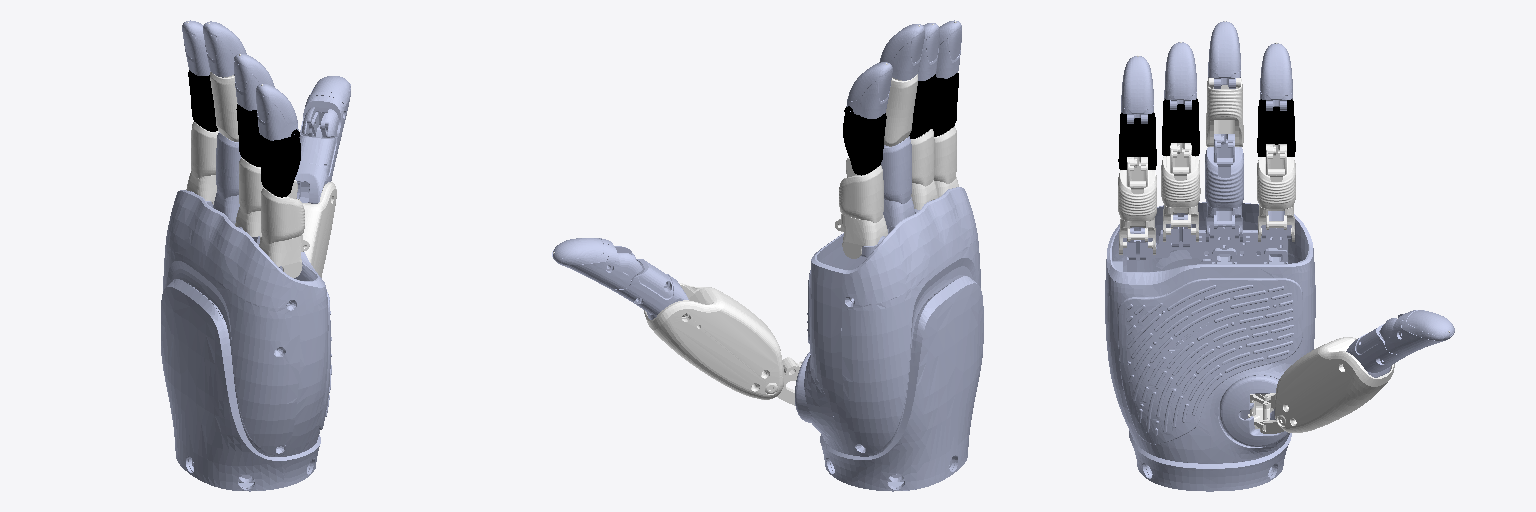
--- Render facts (derived) ---
3 views of the same robot in one strip: view 1: azimuth 30°, elevation 25°; view 2: azimuth 150°, elevation 25°; view 3: azimuth 270°, elevation 25° (orthographic).
Robot: omniprohand — 25 links, 24 joints (19 revolute, 5 fixed); root link hand_base_link; default pose: all joints at 0.
Visible links, largest first — view 1: hand_base_link, pinky_proximal, thumb_distal, thumb_proximal, pinky_middle, thumb_metacarpals, index_proximal, middle_proximal, pinky_distal, ring_proximal, middle_distal, middle_middle (+4 smaller); view 2: hand_base_link, thumb_metacarpals, index_proximal, thumb_distal, middle_proximal, index_middle, thumb_proximal, index_distal, middle_middle, middle_distal, ring_proximal, pinky_proximal (+5 smaller); view 3: hand_base_link, thumb_metacarpals, middle_proximal, ring_proximal, pinky_proximal, index_proximal, thumb_distal, middle_middle, middle_distal, pinky_distal, index_distal, ring_distal (+5 smaller).
Boxes of the visible links, x1,y1,x2,y2 form: hand_base_link: (161,190,331,491); pinky_proximal: (259,180,309,277); thumb_distal: (300,76,350,142); thumb_proximal: (295,127,339,203); pinky_middle: (259,129,300,197); thumb_metacarpals: (303,182,336,277); index_proximal: (186,122,218,204); middle_proximal: (213,132,242,228); pinky_distal: (256,83,298,140); ring_proximal: (235,157,262,239); middle_distal: (203,21,246,77); middle_middle: (210,72,238,141); hand_base_link: (795,187,983,491); thumb_metacarpals: (644,283,783,399); index_proximal: (835,158,887,258); thumb_distal: (552,238,642,289); middle_proximal: (881,136,914,233); index_middle: (843,106,886,175); thumb_proximal: (612,259,688,319); index_distal: (846,62,892,118); middle_middle: (884,74,917,146); middle_distal: (879,24,924,80); ring_proximal: (911,129,937,209); pinky_proximal: (931,126,958,200); hand_base_link: (1105,202,1315,491); thumb_metacarpals: (1275,337,1394,432); middle_proximal: (1205,134,1243,241); ring_proximal: (1161,143,1200,241); pinky_proximal: (1118,157,1156,254); index_proximal: (1257,144,1295,241); thumb_distal: (1380,310,1454,355); middle_middle: (1206,78,1243,146); middle_distal: (1208,21,1240,88); pinky_distal: (1121,56,1153,123); index_distal: (1260,43,1292,110); ring_distal: (1164,42,1196,109).
Bounding box of the posed robot: 0.1453 × 0.1624 × 0.2232 m (x, y, z).
Meshes: 25 distinct files referenced, 25 mesh visuals loaded (25 binary STL).

URDF robot description (omniprohand):
<?xml version="1.0" encoding="utf-8"?>
<!-- This URDF was automatically created by SolidWorks to URDF Exporter! Originally created by Stephen Brawner ([email redacted]) 
     Commit Version: 1.6.0-1-g15f4949  Build Version: 1.6.7594.29634
     For more information, please see http://wiki.ros.org/sw_urdf_exporter -->
<robot
  name="omniprohand">
  <link
    name="hand_base_link">
    <inertial>
      <origin
        xyz="-0.00161159551039664 -5.35320731301112E-05 0.0560978412942799"
        rpy="0 0 0" />
      <mass
        value="0.114811257443678" />
      <inertia
        ixx="0.000157668014286336"
        ixy="1.23279816628469E-07"
        ixz="3.41927928857369E-06"
        iyy="8.5350303174068E-05"
        iyz="-3.29579297268573E-06"
        izz="8.65455243809675E-05" />
    </inertial>
    <visual>
      <origin
        xyz="0 0 0"
        rpy="0 0 0" />
      <geometry>
        <mesh
          filename="meshes/hand_base_link.STL" />
      </geometry>
      <material
        name="">
        <color
          rgba="0.792156862745098 0.819607843137255 0.933333333333333 1" />
      </material>
    </visual>
    <collision>
      <origin
        xyz="0 0 0"
        rpy="0 0 0" />
      <geometry>
        <mesh
          filename="meshes/hand_base_link.STL" />
      </geometry>
    </collision>
  </link>
  <link
    name="thumb_metacarpals_base1">
    <inertial>
      <origin
        xyz="0.0128313930736693 -0.000678732032779711 -6.35818794832849E-05"
        rpy="0 0 0" />
      <mass
        value="0.00393646374828629" />
      <inertia
        ixx="5.66342021103653E-07"
        ixy="2.99828694401975E-08"
        ixz="-8.5308152999029E-10"
        iyy="2.92953553344946E-07"
        iyz="1.9125859446091E-08"
        izz="6.19998879375208E-07" />
    </inertial>
    <visual>
      <origin
        xyz="0 0 0"
        rpy="0 0 0" />
      <geometry>
        <mesh
          filename="meshes/thumb_metacarpals_base1.STL" />
      </geometry>
      <material
        name="">
        <color
          rgba="1 1 1 1" />
      </material>
    </visual>
    <collision>
      <origin
        xyz="0 0 0"
        rpy="0 0 0" />
      <geometry>
        <mesh
          filename="meshes/thumb_metacarpals_base1.STL" />
      </geometry>
    </collision>
  </link>
  <joint
    name="thumb_cmc_roll"
    type="revolute">
    <origin
      xyz="-0.0075211 0.022278 0.04025"
      rpy="0 0 0" />
    <parent
      link="hand_base_link" />
    <child
      link="thumb_metacarpals_base1" />
    <axis
      xyz="1 0 0" />
    <limit
      lower="-0.2489"
      upper="0.6489"
      effort="100"
      velocity="1" />
  </joint>
  <link
    name="thumb_metacarpals_base2">
    <inertial>
      <origin
        xyz="0.00581591430824001 0.00635157624424623 0.0030181797779424"
        rpy="0 0 0" />
      <mass
        value="0.00171679583795965" />
      <inertia
        ixx="1.18471956476211E-07"
        ixy="-4.21491727713665E-08"
        ixz="-1.05144206441241E-08"
        iyy="1.14929858642022E-07"
        iyz="-1.74178188232578E-08"
        izz="9.67476477234771E-08" />
    </inertial>
    <visual>
      <origin
        xyz="0 0 0"
        rpy="0 0 0" />
      <geometry>
        <mesh
          filename="meshes/thumb_metacarpals_base2.STL" />
      </geometry>
      <material
        name="">
        <color
          rgba="1 1 1 1" />
      </material>
    </visual>
    <collision>
      <origin
        xyz="0 0 0"
        rpy="0 0 0" />
      <geometry>
        <mesh
          filename="meshes/thumb_metacarpals_base2.STL" />
      </geometry>
    </collision>
  </link>
  <joint
    name="thumb_cmc_yaw"
    type="revolute">
    <origin
      xyz="0.0350706488516897 0.00330139200274943 0"
      rpy="0 0 0" />
    <parent
      link="thumb_metacarpals_base1" />
    <child
      link="thumb_metacarpals_base2" />
    <axis
      xyz="0 0 -1" />
    <limit
      lower="0"
      upper="1.3868"
      effort="100"
      velocity="1" />
  </joint>
  <link
    name="thumb_metacarpals">
    <inertial>
      <origin
        xyz="0.00385872987613253 0.000181218415040837 0.0262735842223975"
        rpy="0 0 0" />
      <mass
        value="0.0170904824194818" />
      <inertia
        ixx="6.63118248451921E-06"
        ixy="-8.89148786987225E-09"
        ixz="-3.40233793822337E-07"
        iyy="8.03870891218123E-06"
        iyz="1.37099535870765E-08"
        izz="1.83070429843817E-06" />
    </inertial>
    <visual>
      <origin
        xyz="0 0 0"
        rpy="0 0 0" />
      <geometry>
        <mesh
          filename="meshes/thumb_metacarpals.STL" />
      </geometry>
      <material
        name="">
        <color
          rgba="1 1 1 1" />
      </material>
    </visual>
    <collision>
      <origin
        xyz="0 0 0"
        rpy="0 0 0" />
      <geometry>
        <mesh
          filename="meshes/thumb_metacarpals.STL" />
      </geometry>
    </collision>
  </link>
  <joint
    name="thumb_cmc_pitch"
    type="revolute">
    <origin
      xyz="0.0161297170352622 0.0163048601861332 0.00686106204760886"
      rpy="0 -0.925290064543775 -2.35079106633742" />
    <parent
      link="thumb_metacarpals_base2" />
    <child
      link="thumb_metacarpals" />
    <axis
      xyz="0 1 0" />
    <limit
      lower="0"
      upper="0.8268"
      effort="100"
      velocity="1" />
  </joint>
  <link
    name="thumb_proximal">
    <inertial>
      <origin
        xyz="-0.00245377652568594 0.00186599902568424 0.0134436674550769"
        rpy="0 0 0" />
      <mass
        value="0.00522967724458737" />
      <inertia
        ixx="4.48792018896274E-07"
        ixy="-9.70789943838585E-10"
        ixz="-7.98090430081374E-08"
        iyy="6.21158736091837E-07"
        iyz="-3.64664957781825E-09"
        izz="2.2512440353929E-07" />
    </inertial>
    <visual>
      <origin
        xyz="0 0 0"
        rpy="0 0 0" />
      <geometry>
        <mesh
          filename="meshes/thumb_proximal.STL" />
      </geometry>
      <material
        name="">
        <color
          rgba="0.792156862745098 0.819607843137255 0.933333333333333 1" />
      </material>
    </visual>
    <collision>
      <origin
        xyz="0 0 0"
        rpy="0 0 0" />
      <geometry>
        <mesh
          filename="meshes/thumb_proximal.STL" />
      </geometry>
    </collision>
  </link>
  <joint
    name="thumb_mcp"
    type="revolute">
    <origin
      xyz="0.00816453404663862 -0.00144999989303646 0.0556339310817644"
      rpy="0 0 0" />
    <parent
      link="thumb_metacarpals" />
    <child
      link="thumb_proximal" />
    <axis
      xyz="0 1 0" />
    <!-- <limit
      lower="0"
      upper="1.2908"
      effort="100"
      velocity="1" /> -->
    <limit
      lower="0"
      upper="0.2908"
      effort="100"
      velocity="1" />
  </joint>
  <link
    name="thumb_distal">
    <inertial>
      <origin
        xyz="0.000428123853169746 2.07014406468898E-05 0.00928509405558531"
        rpy="0 0 0" />
      <mass
        value="0.00521800975168049" />
      <inertia
        ixx="3.59710358459503E-07"
        ixy="-7.03000203960055E-11"
        ixz="7.69465079824501E-08"
        iyy="3.45473494359169E-07"
        iyz="3.06962101858862E-10"
        izz="2.64028535580618E-07" />
    </inertial>
    <visual>
      <origin
        xyz="0 0 0"
        rpy="0 0 0" />
      <geometry>
        <mesh
          filename="meshes/thumb_distal.STL" />
      </geometry>
      <material
        name="">
        <color
          rgba="0.796078431372549 0.823529411764706 0.937254901960784 1" />
      </material>
    </visual>
    <collision>
      <origin
        xyz="0 0 0"
        rpy="0 0 0" />
      <geometry>
        <mesh
          filename="meshes/thumb_distal.STL" />
      </geometry>
    </collision>
  </link>
  <joint
    name="thumb_ip"
    type="revolute">
    <origin
      xyz="-0.00154750718363847 0.00149999983118392 0.0345280593371561"
      rpy="0 0 0" />
    <parent
      link="thumb_proximal" />
    <child
      link="thumb_distal" />
    <axis
      xyz="0 1 0" />
    <!-- <limit
      lower="0"
      upper="1.3781"
      effort="100"
      velocity="1" /> -->
    <limit
      lower="0"
      upper="0.3781"
      effort="100"
      velocity="1" />
  </joint>
  <link
    name="thumb_Virtual_Point">
    <inertial>
      <origin
        xyz="0.000233035989326169 5.00064540250775E-05 4.67970036186205E-05"
        rpy="0 0 0" />
      <mass
        value="5.23598775598299E-07" />
      <inertia
        ixx="5.23598775598299E-14"
        ixy="-6.44905165041911E-31"
        ixz="3.15544362088405E-30"
        iyy="5.23598775598299E-14"
        iyz="-2.42380465218649E-30"
        izz="5.23598775598299E-14" />
    </inertial>
    <visual>
      <origin
        xyz="0 0 0"
        rpy="0 0 0" />
      <geometry>
        <mesh
          filename="meshes/thumb_Virtual_Point.STL" />
      </geometry>
      <material
        name="">
        <color
          rgba="1 1 1 1" />
      </material>
    </visual>
    <collision>
      <origin
        xyz="0 0 0"
        rpy="0 0 0" />
      <geometry>
        <mesh
          filename="meshes/thumb_Virtual_Point.STL" />
      </geometry>
    </collision>
  </link>
  <joint
    name="thumb_Virtual_Point-none"
    type="fixed">
    <origin
      xyz="-0.00661702686299999 -4.99999381474688E-05 0.0315676558844293"
      rpy="0 0 0" />
    <parent
      link="thumb_distal" />
    <child
      link="thumb_Virtual_Point" />
    <axis
      xyz="0 0 0" />
  </joint>
  <link
    name="index_metacarpals">
    <inertial>
      <origin
        xyz="0.00148754096391645 -5.49503463911916E-09 0.0020193309982513"
        rpy="0 0 0" />
      <mass
        value="0.00107972483821526" />
      <inertia
        ixx="3.55597226363628E-08"
        ixy="-9.48374824931894E-16"
        ixz="-2.89707226372672E-09"
        iyy="2.11264180987165E-08"
        iyz="-1.72178782545344E-14"
        izz="3.62864110573929E-08" />
    </inertial>
    <visual>
      <origin
        xyz="0 0 0"
        rpy="0 0 0" />
      <geometry>
        <mesh
          filename="meshes/index_metacarpals.STL" />
      </geometry>
      <material
        name="">
        <color
          rgba="0.792156862745098 0.819607843137255 0.933333333333333 1" />
      </material>
    </visual>
    <collision>
      <origin
        xyz="0 0 0"
        rpy="0 0 0" />
      <geometry>
        <mesh
          filename="meshes/index_metacarpals.STL" />
      </geometry>
    </collision>
  </link>
  <joint
    name="index_mcp_roll"
    type="revolute">
    <origin
      xyz="-0.00719999999308767 0.030778354272632 0.119355702147758"
      rpy="0 0 0" />
    <parent
      link="hand_base_link" />
    <child
      link="index_metacarpals" />
    <axis
      xyz="-1 0 0" />
    <limit
      lower="-0.2616"
      upper="0.2616"
      effort="100"
      velocity="1" />
  </joint>
  <link
    name="index_proximal">
    <inertial>
      <origin
        xyz="-0.0011507020809311 -2.08334184405266E-05 0.0212647300382613"
        rpy="0 0 0" />
      <mass
        value="0.0047795679529425" />
      <inertia
        ixx="5.44832577804325E-07"
        ixy="-9.05372082062046E-11"
        ixz="1.65895588180974E-08"
        iyy="5.41640689587984E-07"
        iyz="-2.49910298343712E-10"
        izz="1.75594690124638E-07" />
    </inertial>
    <visual>
      <origin
        xyz="0 0 0"
        rpy="0 0 0" />
      <geometry>
        <mesh
          filename="meshes/index_proximal.STL" />
      </geometry>
      <material
        name="">
        <color
          rgba="1 1 1 1" />
      </material>
    </visual>
    <collision>
      <origin
        xyz="0 0 0"
        rpy="0 0 0" />
      <geometry>
        <mesh
          filename="meshes/index_proximal.STL" />
      </geometry>
    </collision>
  </link>
  <joint
    name="index_mcp_pitch"
    type="revolute">
    <origin
      xyz="0.00736980261911774 0 0"
      rpy="0 0 0" />
    <parent
      link="index_metacarpals" />
    <child
      link="index_proximal" />
    <axis
      xyz="0 1 0" />
    <limit
      lower="0"
      upper="1.3519"
      effort="100"
      velocity="1" />
  </joint>
  <link
    name="index_middle">
    <inertial>
      <origin
        xyz="0.000582798950647259 -1.66623930000845E-05 0.0134419047168478"
        rpy="0 0 0" />
      <mass
        value="0.00270775195657711" />
      <inertia
        ixx="2.25567812011315E-07"
        ixy="4.76559542406049E-12"
        ixz="5.19477924230877E-09"
        iyy="1.61875481956388E-07"
        iyz="-8.958112771538E-12"
        izz="1.1790038033522E-07" />
    </inertial>
    <visual>
      <origin
        xyz="0 0 0"
        rpy="0 0 0" />
      <geometry>
        <mesh
          filename="meshes/index_middle.STL" />
      </geometry>
      <material
        name="">
        <color
          rgba="0 0 0 1" />
      </material>
    </visual>
    <collision>
      <origin
        xyz="0 0 0"
        rpy="0 0 0" />
      <geometry>
        <mesh
          filename="meshes/index_middle.STL" />
      </geometry>
    </collision>
  </link>
  <joint
    name="index_pip"
    type="revolute">
    <origin
      xyz="-0.00305282449335901 0 0.0399071116817979"
      rpy="0 0 0" />
    <parent
      link="index_proximal" />
    <child
      link="index_middle" />
    <axis
      xyz="0 1 0" />
    <limit
      lower="0"
      upper="1.52"
      effort="100"
      velocity="1" />
  </joint>
  <link
    name="index_distal">
    <inertial>
      <origin
        xyz="-0.00721640324456499 -3.10526118675776E-05 0.00510323974876059"
        rpy="0 0 0" />
      <mass
        value="0.00258259704107596" />
      <inertia
        ixx="1.30227806624487E-07"
        ixy="1.19687371568575E-10"
        ixz="4.12783102703161E-08"
        iyy="1.36472647538679E-07"
        iyz="-3.14466372715903E-10"
        izz="1.01017185875891E-07" />
    </inertial>
    <visual>
      <origin
        xyz="0 0 0"
        rpy="0 0 0" />
      <geometry>
        <mesh
          filename="meshes/index_distal.STL" />
      </geometry>
      <material
        name="">
        <color
          rgba="0.792156862745098 0.819607843137255 0.933333333333333 1" />
      </material>
    </visual>
    <collision>
      <origin
        xyz="0 0 0"
        rpy="0 0 0" />
      <geometry>
        <mesh
          filename="meshes/index_distal.STL" />
      </geometry>
    </collision>
  </link>
  <joint
    name="index_dip"
    type="revolute">
    <origin
      xyz="0.00530686089658646 0 0.0265922869892696"
      rpy="0 0 0" />
    <parent
      link="index_middle" />
    <child
      link="index_distal" />
    <axis
      xyz="0 1 0" />
    <limit
      lower="0"
      upper="1.369"
      effort="100"
      velocity="1" />
  </joint>
  <link
    name="index_Virtual_Point">
    <inertial>
      <origin
        xyz="2.59494682686157E-12 1.08447278934776E-12 -2.77555756156289E-17"
        rpy="0 0 0" />
      <mass
        value="5.23598775598299E-07" />
      <inertia
        ixx="5.23598775598299E-14"
        ixy="1.25598008635388E-40"
        ixz="9.28286640364503E-41"
        iyy="5.23598775598299E-14"
        iyz="1.09865815136825E-30"
        izz="5.23598775598299E-14" />
    </inertial>
    <visual>
      <origin
        xyz="0 0 0"
        rpy="0 0 0" />
      <geometry>
        <mesh
          filename="meshes/index_Virtual_Point.STL" />
      </geometry>
      <material
        name="">
        <color
          rgba="1 1 1 1" />
      </material>
    </visual>
    <collision>
      <origin
        xyz="0 0 0"
        rpy="0 0 0" />
      <geometry>
        <mesh
          filename="meshes/index_Virtual_Point.STL" />
      </geometry>
    </collision>
  </link>
  <joint
    name="index_Virtual_Point-none"
    type="fixed">
    <origin
      xyz="-0.0152816370939128 0 0.0240371666710466"
      rpy="0 0 0" />
    <parent
      link="index_distal" />
    <child
      link="index_Virtual_Point" />
    <axis
      xyz="0 0 0" />
  </joint>
  <link
    name="middle_metacarpals">
    <inertial>
      <origin
        xyz="0.00148754096057072 3.28886513297454E-06 0.00201932832117667"
        rpy="0 0 0" />
      <mass
        value="0.00107972484789827" />
      <inertia
        ixx="3.55597227804492E-08"
        ixy="-4.72744773072463E-12"
        ixz="-2.89706838785042E-09"
        iyy="2.11264584194102E-08"
        iyz="2.47147540874508E-11"
        izz="3.62863711473445E-08" />
    </inertial>
    <visual>
      <origin
        xyz="0 0 0"
        rpy="0 0 0" />
      <geometry>
        <mesh
          filename="meshes/middle_metacarpals.STL" />
      </geometry>
      <material
        name="">
        <color
          rgba="0.792156862745098 0.819607843137255 0.933333333333333 1" />
      </material>
    </visual>
    <collision>
      <origin
        xyz="0 0 0"
        rpy="0 0 0" />
      <geometry>
        <mesh
          filename="meshes/middle_metacarpals.STL" />
      </geometry>
    </collision>
  </link>
  <joint
    name="middle_mcp_roll"
    type="revolute">
    <origin
      xyz="-0.00720002856790489 0.00666067883725946 0.119355672566023"
      rpy="0 0 0" />
    <parent
      link="hand_base_link" />
    <child
      link="middle_metacarpals" />
    <axis
      xyz="-1 0 0" />
    <limit
      lower="-0.26"
      upper="0.26"
      effort="100"
      velocity="1" />
  </joint>
  <link
    name="middle_proximal">
    <inertial>
      <origin
        xyz="-0.00165985032192234 6.30950482594017E-05 0.0236220231228174"
        rpy="0 0 0" />
      <mass
        value="0.0055122415444485" />
      <inertia
        ixx="7.79066281858944E-07"
        ixy="4.80058757068528E-11"
        ixz="3.22743653411331E-08"
        iyy="7.60600012773068E-07"
        iyz="-1.49750195774983E-09"
        izz="2.05882994190045E-07" />
    </inertial>
    <visual>
      <origin
        xyz="0 0 0"
        rpy="0 0 0" />
      <geometry>
        <mesh
          filename="meshes/middle_proximal.STL" />
      </geometry>
      <material
        name="">
        <color
          rgba="0.792156862745098 0.819607843137255 0.933333333333333 1" />
      </material>
    </visual>
    <collision>
      <origin
        xyz="0 0 0"
        rpy="0 0 0" />
      <geometry>
        <mesh
          filename="meshes/middle_proximal.STL" />
      </geometry>
    </collision>
  </link>
  <joint
    name="middle_mcp_pitch"
    type="revolute">
    <origin
      xyz="0.00736980261904721 0 0"
      rpy="0 0 0" />
    <parent
      link="middle_metacarpals" />
    <child
      link="middle_proximal" />
    <axis
      xyz="0 0.999998669223613 -0.00163142606439766" />
    <limit
      lower="0"
      upper="1.35"
      effort="100"
      velocity="1" />
  </joint>
  <link
    name="middle_middle">
    <inertial>
      <origin
        xyz="-0.000230368247225323 5.52667321999743E-05 0.01619749717231"
        rpy="0 0 0" />
      <mass
        value="0.00314204808883818" />
      <inertia
        ixx="3.20092678111392E-07"
        ixy="-1.08641100687577E-11"
        ixz="1.53074298945201E-08"
        iyy="2.47015765909473E-07"
        iyz="-1.53970978537133E-10"
        izz="1.35843361683385E-07" />
    </inertial>
    <visual>
      <origin
        xyz="0 0 0"
        rpy="0 0 0" />
      <geometry>
        <mesh
          filename="meshes/middle_middle.STL" />
      </geometry>
      <material
        name="">
        <color
          rgba="1 1 1 1" />
      </material>
    </visual>
    <collision>
      <origin
        xyz="0 0 0"
        rpy="0 0 0" />
      <geometry>
        <mesh
          filename="meshes/middle_middle.STL" />
      </geometry>
    </collision>
  </link>
  <joint
    name="middle_pip"
    type="revolute">
    <origin
      xyz="-0.004144 7.3133E-05 0.044828"
      rpy="0 0 0" />
    <parent
      link="middle_proximal" />
    <child
      link="middle_middle" />
    <axis
      xyz="0 1 -0.0016314" />
    <limit
      lower="0"
      upper="1.814"
      effort="100"
      velocity="1" />
  </joint>
  <link
    name="middle_distal">
    <inertial>
      <origin
        xyz="-0.00724758468028898 -2.27990144281735E-05 0.00505893372906674"
        rpy="0 0 0" />
      <mass
        value="0.00258260294313138" />
      <inertia
        ixx="1.29720848656837E-07"
        ixy="1.8924389897908E-10"
        ixz="4.14544297269987E-08"
        iyy="1.36472188916914E-07"
        iyz="-3.70737066885826E-10"
        izz="1.01526072268206E-07" />
    </inertial>
    <visual>
      <origin
        xyz="0 0 0"
        rpy="0 0 0" />
      <geometry>
        <mesh
          filename="meshes/middle_distal.STL" />
      </geometry>
      <material
        name="">
        <color
          rgba="0.792156862745098 0.819607843137255 0.933333333333333 1" />
      </material>
    </visual>
    <collision>
      <origin
        xyz="0 0 0"
        rpy="0 0 0" />
      <geometry>
        <mesh
          filename="meshes/middle_distal.STL" />
      </geometry>
    </collision>
  </link>
  <joint
    name="middle_dip"
    type="revolute">
    <origin
      xyz="0.00362953932909984 5.15731342090597E-05 0.031612259069028"
      rpy="0 0 0" />
    <parent
      link="middle_middle" />
    <child
      link="middle_distal" />
    <axis
      xyz="0 0.99999866922354 -0.0016314261089444" />
    <limit
      lower="0"
      upper="1.256"
      effort="100"
      velocity="1" />
  </joint>
  <link
    name="middle_Virtual_Point">
    <inertial>
      <origin
        xyz="4.81580053612873E-13 1.33037331151442E-12 -6.74460487459783E-15"
        rpy="0 0 0" />
      <mass
        value="5.23598775598299E-07" />
      <inertia
        ixx="5.23598775598299E-14"
        ixy="-4.90325426925644E-42"
        ixz="1.17662710661929E-40"
        iyy="5.23598775598299E-14"
        iyz="1.29845462914076E-30"
        izz="5.23598775598299E-14" />
    </inertial>
    <visual>
      <origin
        xyz="0 0 0"
        rpy="0 0 0" />
      <geometry>
        <mesh
          filename="meshes/middle_Virtual_Point.STL" />
      </geometry>
      <material
        name="">
        <color
          rgba="1 1 1 1" />
      </material>
    </visual>
    <collision>
      <origin
        xyz="0 0 0"
        rpy="0 0 0" />
      <geometry>
        <mesh
          filename="meshes/middle_Virtual_Point.STL" />
      </geometry>
    </collision>
  </link>
  <joint
    name="middle_Virtual_Point-none"
    type="fixed">
    <origin
      xyz="-0.0154287963750709 3.90611932357243E-05 0.0239429432292471"
      rpy="0 0 0" />
    <parent
      link="middle_distal" />
    <child
      link="middle_Virtual_Point" />
    <axis
      xyz="0 0 0" />
  </joint>
  <link
    name="ring_proximal">
    <inertial>
      <origin
        xyz="-0.00161802170047008 -2.08220096852268E-05 0.0212342177709951"
        rpy="0 0 0" />
      <mass
        value="0.0047795328266326" />
      <inertia
        ixx="5.43923252152409E-07"
        ixy="-8.48896522637981E-11"
        ixz="2.4689478865027E-08"
        iyy="5.41640127982143E-07"
        iyz="-2.5218290048469E-10"
        izz="1.76501748993068E-07" />
    </inertial>
    <visual>
      <origin
        xyz="0 0 0"
        rpy="0 0 0" />
      <geometry>
        <mesh
          filename="meshes/ring_proximal.STL" />
      </geometry>
      <material
        name="">
        <color
          rgba="1 1 1 1" />
      </material>
    </visual>
    <collision>
      <origin
        xyz="0 0 0"
        rpy="0 0 0" />
      <geometry>
        <mesh
          filename="meshes/ring_proximal.STL" />
      </geometry>
    </collision>
  </link>
  <joint
    name="ring_mcp_pitch"
    type="revolute">
    <origin
      xyz="0.0001598 -0.013573 0.11972"
      rpy="0 0 0" />
    <parent
      link="hand_base_link" />
    <child
      link="ring_proximal" />
    <axis
      xyz="0 1 0" />
    <limit
      lower="0"
      upper="1.55"
      effort="100"
      velocity="1" />
  </joint>
  <link
    name="ring_middle">
    <inertial>
      <origin
        xyz="0.000940340714750308 -1.66667751162405E-05 0.0134216382614548"
        rpy="0 0 0" />
      <mass
        value="0.0027077533496335" />
      <inertia
        ixx="2.25767846748625E-07"
        ixy="4.61360531413437E-12"
        ixz="2.32301202429608E-09"
        iyy="1.61875511170868E-07"
        iyz="-9.05860342855209E-12"
        izz="1.17700137222491E-07" />
    </inertial>
    <visual>
      <origin
        xyz="0 0 0"
        rpy="0 0 0" />
      <geometry>
        <mesh
          filename="meshes/ring_middle.STL" />
      </geometry>
      <material
        name="">
        <color
          rgba="0 0 0 1" />
      </material>
    </visual>
    <collision>
      <origin
        xyz="0 0 0"
        rpy="0 0 0" />
      <geometry>
        <mesh
          filename="meshes/ring_middle.STL" />
      </geometry>
    </collision>
  </link>
  <joint
    name="ring_pip"
    type="revolute">
    <origin
      xyz="-0.0039295 0 0.03983"
      rpy="0 0 0" />
    <parent
      link="ring_proximal" />
    <child
      link="ring_middle" />
    <axis
      xyz="0 1 0" />
    <limit
      lower="0"
      upper="1.439"
      effort="100"
      velocity="1" />
  </joint>
  <link
    name="ring_distal">
    <inertial>
      <origin
        xyz="-0.00679183129010172 -3.1051267307786E-05 0.00565592901618503"
        rpy="0 0 0" />
      <mass
        value="0.00258259127175773" />
      <inertia
        ixx="1.36530380213342E-07"
        ixy="9.44469863763946E-11"
        ixz="3.84707548646242E-08"
        iyy="1.36471612117152E-07"
        iyz="-3.22664356287902E-10"
        izz="9.47134934031493E-08" />
    </inertial>
    <visual>
      <origin
        xyz="0 0 0"
        rpy="0 0 0" />
      <geometry>
        <mesh
          filename="meshes/ring_distal.STL" />
      </geometry>
      <material
        name="">
        <color
          rgba="0.792156862745098 0.819607843137255 0.933333333333333 1" />
      </material>
    </visual>
    <collision>
      <origin
        xyz="0 0 0"
        rpy="0 0 0" />
      <geometry>
        <mesh
          filename="meshes/ring_distal.STL" />
      </geometry>
    </collision>
  </link>
  <joint
    name="ring_dip"
    type="revolute">
    <origin
      xyz="0.00601275714854613 0 0.0264415298059948"
      rpy="0 0 0" />
    <parent
      link="ring_middle" />
    <child
      link="ring_distal" />
    <axis
      xyz="0 1 0" />
    <limit
      lower="0"
      upper="1.3257"
      effort="100"
      velocity="1" />
  </joint>
  <link
    name="ring_Virtual_Point">
    <inertial>
      <origin
        xyz="-1.13526896217131E-12 9.35964847292858E-13 5.27355936696949E-16"
        rpy="0 0 0" />
      <mass
        value="5.23598775598299E-07" />
      <inertia
        ixx="5.23598775598299E-14"
        ixy="1.58205846501508E-40"
        ixz="1.56203013032883E-40"
        iyy="5.23598775598299E-14"
        iyz="1.85037170770859E-30"
        izz="5.23598775598299E-14" />
    </inertial>
    <visual>
      <origin
        xyz="0 0 0"
        rpy="0 0 0" />
      <geometry>
        <mesh
          filename="meshes/ring_Virtual_Point.STL" />
      </geometry>
      <material
        name="">
        <color
          rgba="1 1 1 1" />
      </material>
    </visual>
    <collision>
      <origin
        xyz="0 0 0"
        rpy="0 0 0" />
      <geometry>
        <mesh
          filename="meshes/ring_Virtual_Point.STL" />
      </geometry>
    </collision>
  </link>
  <joint
    name="ring_Virtual_Point-none"
    type="fixed">
    <origin
      xyz="-0.01334 0 0.025167"
      rpy="0 0 0" />
    <parent
      link="ring_distal" />
    <child
      link="ring_Virtual_Point" />
    <axis
      xyz="0 0 0" />
  </joint>
  <link
    name="pinky_proximal">
    <inertial>
      <origin
        xyz="-0.0016180221168521 -2.08215074695289E-05 0.0212342179851402"
        rpy="0 0 0" />
      <mass
        value="0.00477953323340541" />
      <inertia
        ixx="5.43923274544673E-07"
        ixy="-8.48863445397533E-11"
        ixz="2.46894910332365E-08"
        iyy="5.41640168354855E-07"
        iyz="-2.52187730642466E-10"
        izz="1.7650175778066E-07" />
    </inertial>
    <visual>
      <origin
        xyz="0 0 0"
        rpy="0 0 0" />
      <geometry>
        <mesh
          filename="meshes/pinky_proximal.STL" />
      </geometry>
      <material
        name="">
        <color
          rgba="1 1 1 1" />
      </material>
    </visual>
    <collision>
      <origin
        xyz="0 0 0"
        rpy="0 0 0" />
      <geometry>
        <mesh
          filename="meshes/pinky_proximal.STL" />
      </geometry>
    </collision>
  </link>
  <joint
    name="pinky_mcp_pitch"
    type="revolute">
    <origin
      xyz="0.000159802654372855 -0.0336303181952511 0.11271621059493"
      rpy="0 0 0" />
    <parent
      link="hand_base_link" />
    <child
      link="pinky_proximal" />
    <axis
      xyz="0 1 0" />
    <limit
      lower="0"
      upper="1.535"
      effort="100"
      velocity="1" />
  </joint>
  <link
    name="pinky_middle">
    <inertial>
      <origin
        xyz="0.000940340979638598 -1.66665156724755E-05 0.0134216381434371"
        rpy="0 0 0" />
      <mass
        value="0.00270775345292578" />
      <inertia
        ixx="2.25767855959524E-07"
        ixy="4.61316580602277E-12"
        ixz="2.32301150942084E-09"
        iyy="1.61875516933061E-07"
        iyz="-9.05509549786009E-12"
        izz="1.17700140839825E-07" />
    </inertial>
    <visual>
      <origin
        xyz="0 0 0"
        rpy="0 0 0" />
      <geometry>
        <mesh
          filename="meshes/pinky_middle.STL" />
      </geometry>
      <material
        name="">
        <color
          rgba="0 0 0 1" />
      </material>
    </visual>
    <collision>
      <origin
        xyz="0 0 0"
        rpy="0 0 0" />
      <geometry>
        <mesh
          filename="meshes/pinky_middle.STL" />
      </geometry>
    </collision>
  </link>
  <joint
    name="pinky_pip"
    type="revolute">
    <origin
      xyz="-0.00392950397727024 0 0.0398303439412377"
      rpy="0 0 0" />
    <parent
      link="pinky_proximal" />
    <child
      link="pinky_middle" />
    <axis
      xyz="0 1 0" />
    <limit
      lower="0"
      upper="1.413"
      effort="100"
      velocity="1" />
  </joint>
  <link
    name="pinky_distal">
    <inertial>
      <origin
        xyz="-0.00679190409450586 -3.10511081597076E-05 0.00565584201307923"
        rpy="0 0 0" />
      <mass
        value="0.00258259141809727" />
      <inertia
        ixx="1.36529403216541E-07"
        ixy="9.44507918542087E-11"
        ixz="3.84712982116646E-08"
        iyy="1.36471628325979E-07"
        iyz="-3.22662637208023E-10"
        izz="9.47144825482917E-08" />
    </inertial>
    <visual>
      <origin
        xyz="0 0 0"
        rpy="0 0 0" />
      <geometry>
        <mesh
          filename="meshes/pinky_distal.STL" />
      </geometry>
      <material
        name="">
        <color
          rgba="0.792156862745098 0.819607843137255 0.933333333333333 1" />
      </material>
    </visual>
    <collision>
      <origin
        xyz="0 0 0"
        rpy="0 0 0" />
      <geometry>
        <mesh
          filename="meshes/pinky_distal.STL" />
      </geometry>
    </collision>
  </link>
  <joint
    name="pinky_dip"
    type="revolute">
    <origin
      xyz="0.00601270306428537 0 0.0264416319816371"
      rpy="0 0 0" />
    <parent
      link="pinky_middle" />
    <child
      link="pinky_distal" />
    <axis
      xyz="0 1 0" />
    <limit
      lower="0"
      upper="1.325"
      effort="100"
      velocity="1" />
  </joint>
  <link
    name="pinky_Virtual_Point">
    <inertial>
      <origin
        xyz="-2.83552521740393E-12 9.35987398698046E-13 8.32667268468867E-17"
        rpy="0 0 0" />
      <mass
        value="5.23598775598299E-07" />
      <inertia
        ixx="5.23598775598299E-14"
        ixy="3.70623385375214E-40"
        ixz="1.56278809626202E-40"
        iyy="5.23598775598299E-14"
        iyz="1.85037170770859E-30"
        izz="5.23598775598299E-14" />
    </inertial>
    <visual>
      <origin
        xyz="0 0 0"
        rpy="0 0 0" />
      <geometry>
        <mesh
          filename="meshes/pinky_Virtual_Point.STL" />
      </geometry>
      <material
        name="">
        <color
          rgba="1 1 1 1" />
      </material>
    </visual>
    <collision>
      <origin
        xyz="0 0 0"
        rpy="0 0 0" />
      <geometry>
        <mesh
          filename="meshes/pinky_Virtual_Point.STL" />
      </geometry>
    </collision>
  </link>
  <joint
    name="pinky_Virtual_Point-none"
    type="fixed">
    <origin
      xyz="-0.0133404537520391 0 0.0251663685805378"
      rpy="0 0 0" />
    <parent
      link="pinky_distal" />
    <child
      link="pinky_Virtual_Point" />
    <axis
      xyz="0 0 0" />
  </joint>
</robot>
